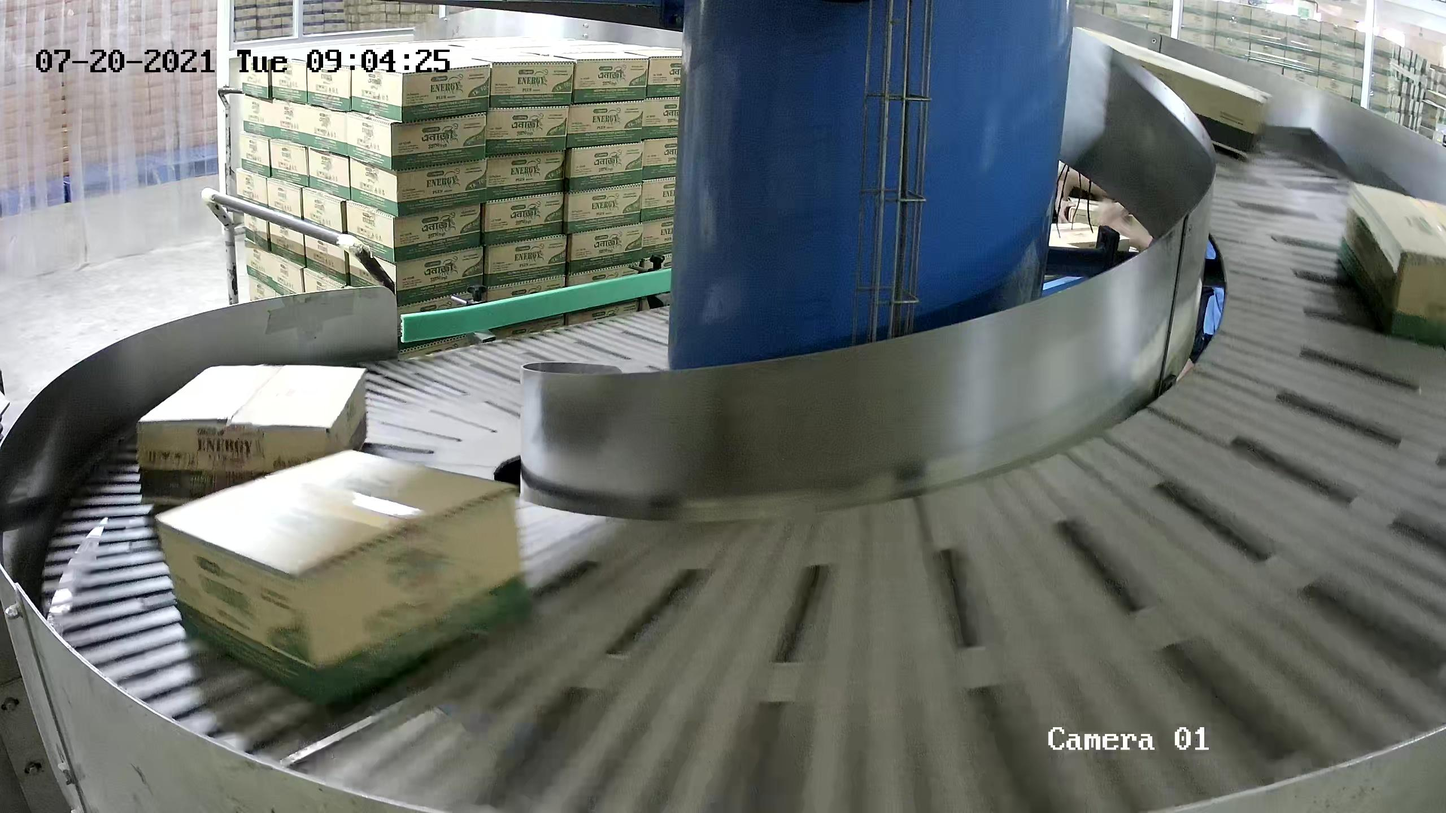Box: (152, 446, 536, 710), (134, 361, 370, 508), (1074, 25, 1274, 163), (1335, 179, 1446, 346)
